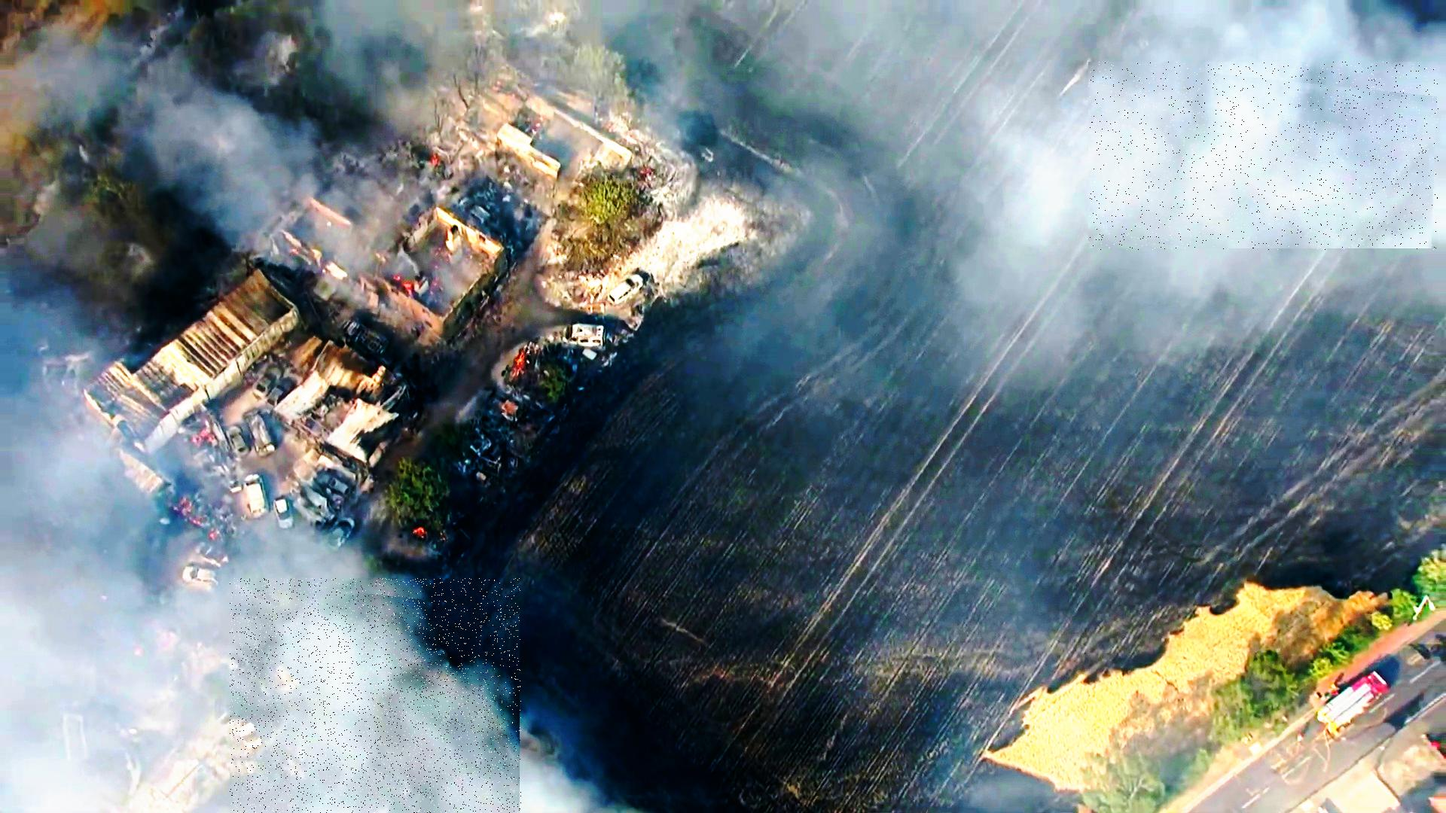smoke: (230, 578, 522, 813), (1089, 62, 1439, 251)
